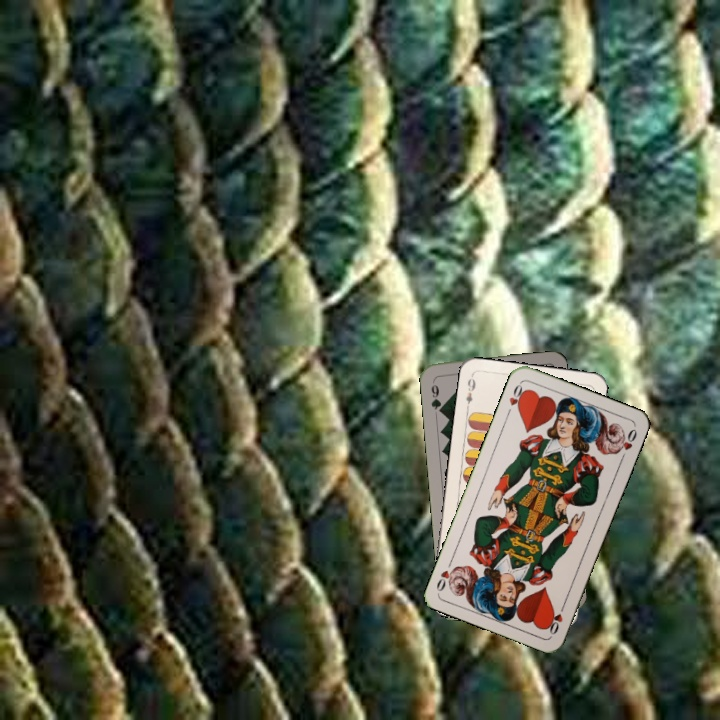E9: (462, 372, 478, 412)
G9: (427, 376, 445, 416)
HO: (503, 379, 528, 418), (544, 599, 568, 637)
